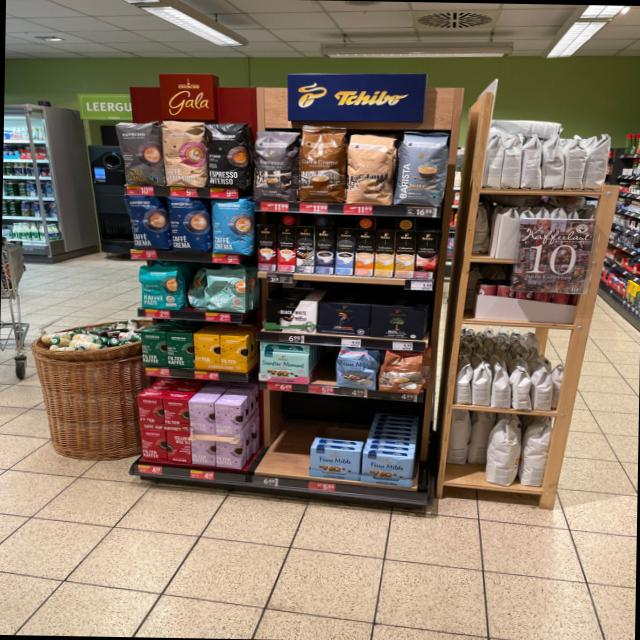BM Gemahlen: (368, 305, 426, 340)
BW Gemahlen: (263, 296, 318, 332)
Barista CC: (396, 128, 448, 205)
CC Mild: (346, 133, 396, 205)
CC Vollmundig: (378, 349, 422, 393)
CC Vollmundig 36 Pads: (298, 123, 344, 202)
Empty Shelf: (258, 402, 308, 474)
Espresso M Art: (253, 128, 297, 203)
FM 36 Pads: (335, 346, 377, 391)
FM Gemahlen: (361, 450, 415, 487), (307, 445, 360, 480)
LG Gemahlen: (318, 300, 370, 336)
SM Gemahlen: (258, 350, 310, 384)
Simo CC Colombia: (414, 230, 436, 278)
Simo CCMild bigpack: (374, 230, 394, 276)
Simo CCVollmundig bigpack: (354, 229, 374, 276)
Simo Decaff: (394, 230, 414, 278)
Simo Es Brazil: (275, 225, 295, 272)
Simo Es Caramel: (256, 223, 276, 270)
Simo Es Elegant: (296, 226, 314, 272)
Simo Es Kraft: (314, 226, 334, 274)
Simo Es Vanilla: (336, 227, 354, 275)
